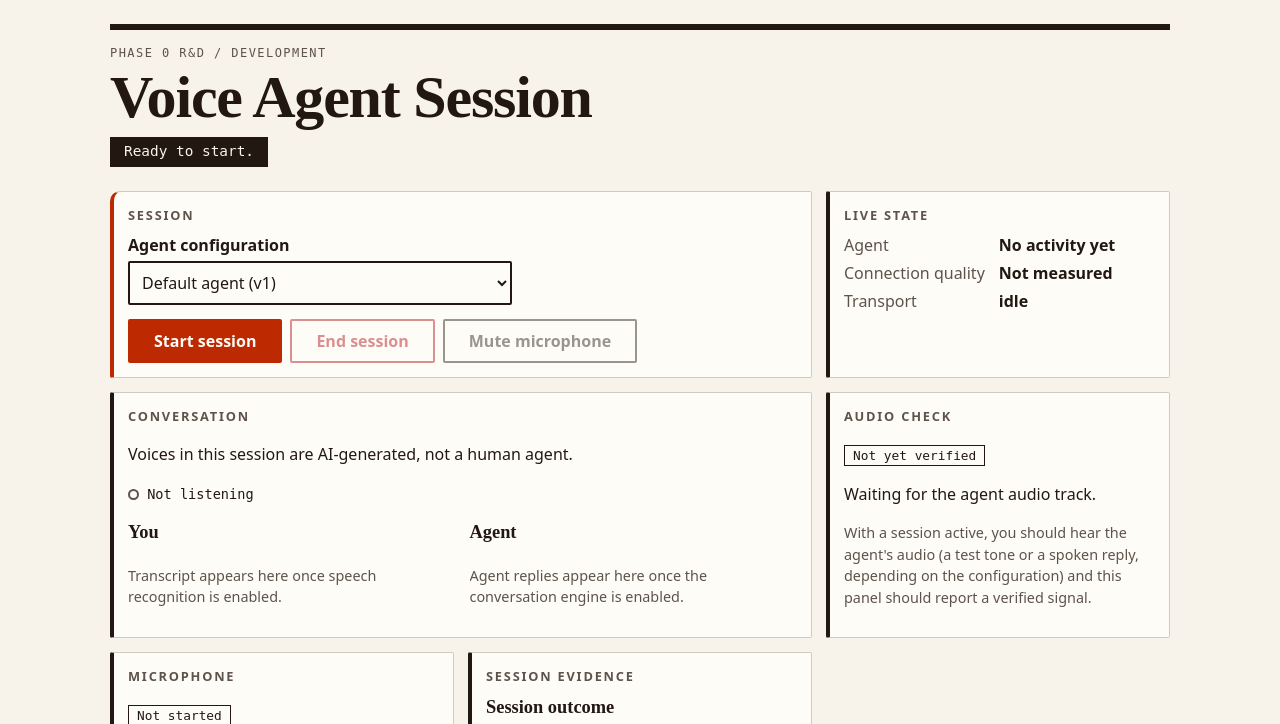
SessionScreen accessibility and states › ends the session and shows the terminal state
The image size is (1280, 724).
Click the button "Start session": (205, 341) [128,319,282,363]
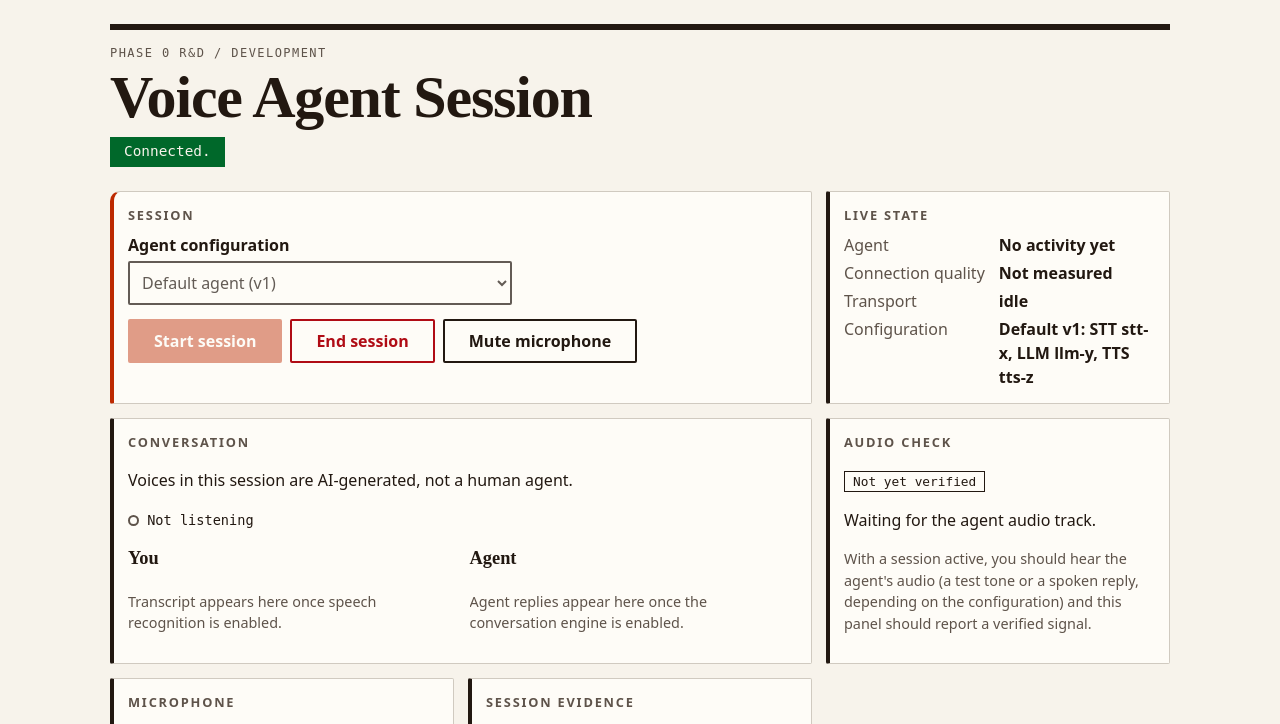
Check: the message "Connected." is shown, box [110,137,225,167]
Click the button "End session": (363, 341) [290,319,435,363]
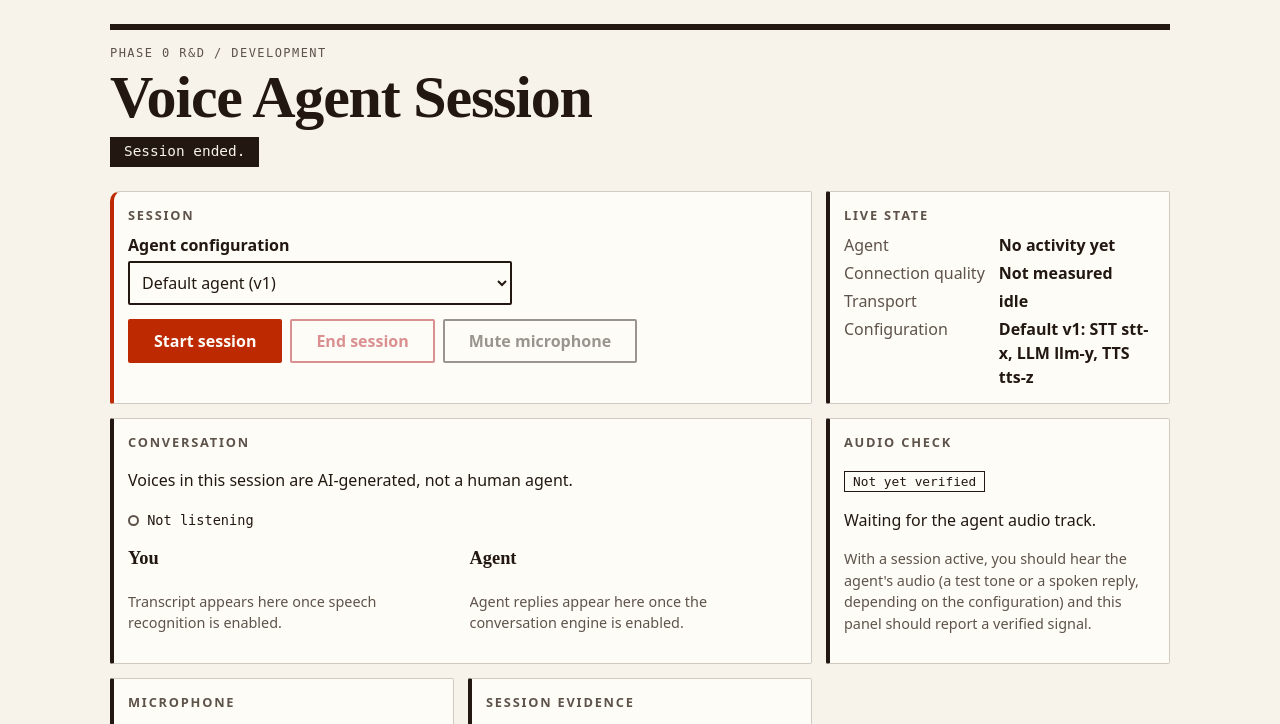
Check: the message "Session ended." is shown, box [110,137,259,167]
Check: the button "Start session" is enabled, box [128,319,282,363]
